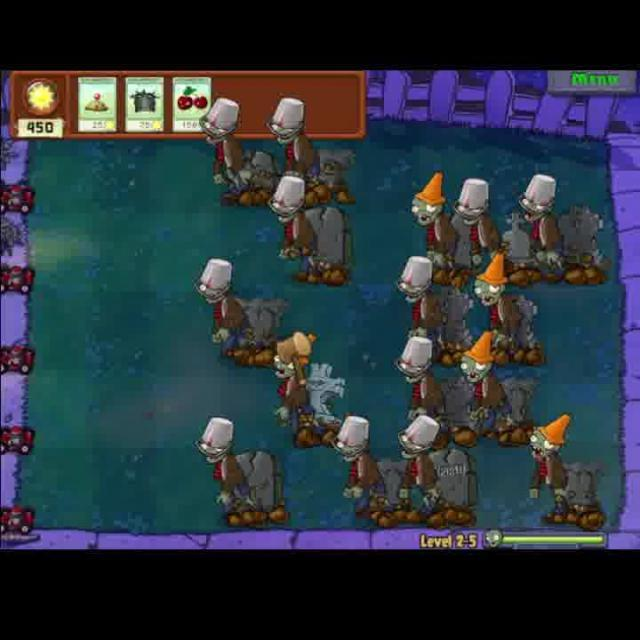zombies: (190, 414, 255, 532), (468, 252, 534, 364), (516, 170, 576, 284), (459, 334, 521, 444), (407, 168, 463, 284), (394, 252, 452, 362), (526, 408, 580, 526), (265, 176, 327, 275), (195, 260, 258, 356), (264, 95, 324, 194), (398, 332, 452, 442), (268, 338, 324, 444), (396, 411, 446, 524), (194, 92, 248, 192), (337, 414, 387, 518), (456, 171, 500, 273)
